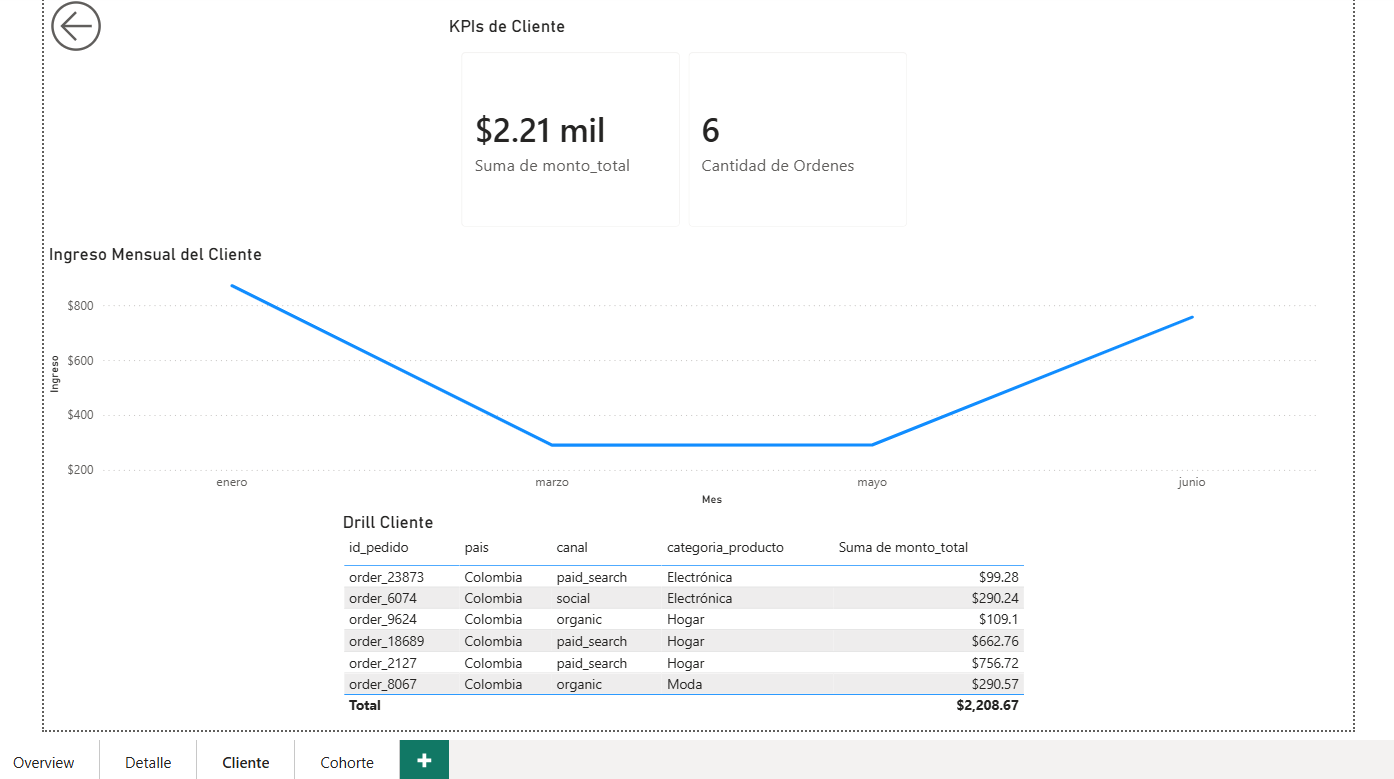

The page's visual inventory and layout, read from the dashboard file:
{"tool":"powerbi","page":{"name":"Cliente","canvas":[1280,720],"ordinal":2},"visuals":[{"type":"cardVisual","title":"KPIs de Cliente","fields":{"Data":["Sum(orders_clean.monto_total)","orders_clean.Cantidad de Ordenes"]},"box":[390.7,20.4,470.9,224.5],"z":1},{"type":"lineChart","title":"Ingreso Mensual del Cliente","fields":{"Y":["Sum(orders_clean.monto_total)"],"Category":["Dim_fecha.Date.Variación.Jerarquía de fechas.Mes"]},"box":[0,244.9,1253.8,261],"z":2},{"type":"tableEx","title":"Drill Cliente","fields":{"Values":["orders_clean.id_pedido","orders_clean.pais","orders_clean.canal","orders_clean.categoria_producto","Sum(orders_clean.monto_total)"]},"box":[287.2,505.9,677.9,214.3],"z":3},{"type":"actionButton","box":[0,0,62.7,62.7],"z":4}]}

Visuals, with their boxes in screenshot pixels (x1, y1, x2, y2), scaled from the page's 1280x720 canvas onto the 1394x779 screenshot:
"KPIs de Cliente" cardVisual: bbox=[425, 22, 938, 265]
"Ingreso Mensual del Cliente" lineChart: bbox=[0, 265, 1365, 547]
"Drill Cliente" tableEx: bbox=[313, 547, 1051, 778]
actionButton: bbox=[0, 0, 68, 68]
